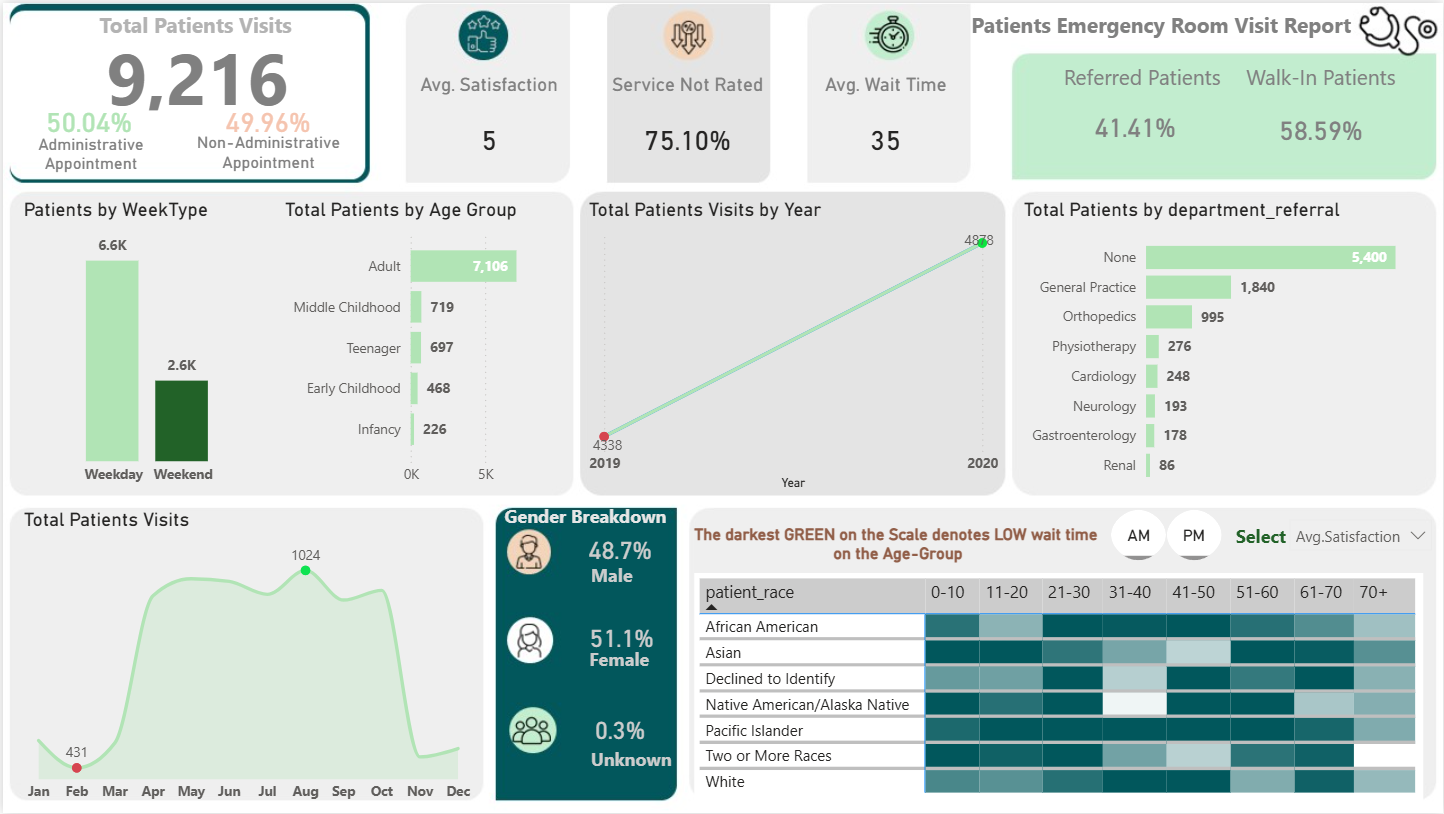

What the dashboard file says about the page in this screenshot:
{"tool":"powerbi","page":{"name":"Page 1","canvas":[1280,720],"ordinal":0},"visuals":[{"type":"card","fields":{"Values":["Calculations.Total Patients"]},"box":[66.7,27.2,212.3,74.1],"z":0},{"type":"card","fields":{"Values":["Calculations.% Administrative Schedule"]},"box":[13.6,74.1,125.9,63],"z":1000},{"type":"card","fields":{"Values":["Calculations.% Non-Administrative Schedule"]},"box":[172.8,74.1,124.7,61.7],"z":2000},{"type":"pivotTable","fields":{"Values":["Calculations.Average Satisfaction Score"],"Rows":["Patients Dataset.patient_race"],"Columns":["Patients Dataset.Age Buckets"]},"box":[614.8,506.2,648.1,213.6],"z":3000},{"type":"slicer","fields":{"Values":["Parameter.Parameter"]},"box":[1133.3,449.4,146.9,48.1],"z":4000},{"type":"clusteredBarChart","fields":{"Category":["Patients Dataset.Age Group"],"Y":["Calculations.Total Patients"]},"box":[245.7,172.8,255.6,264.2],"z":5000},{"type":"areaChart","title":"Total Patients Visits","fields":{"Category":["Date.Month"],"Y":["Calculations.Total Patients","Calculations.Values Max Point (Month)"]},"box":[13.6,449.4,409.9,270.4],"z":6000},{"type":"lineChart","title":"Total Patients Visits by Year","fields":{"Category":["Date.Year"],"Y":["Calculations.Total Patients","Calculations.Values Max Point (Year)"]},"box":[516,172.8,374.1,264.2],"z":7000},{"type":"clusteredBarChart","fields":{"Y":["Calculations.Total Patients"],"Category":["Patients Dataset.department_referral"]},"box":[902.5,172.8,377.8,264.2],"z":8000},{"type":"card","fields":{"Values":["Calculations.% Referred Patients"]},"box":[943.2,77.8,125.9,65.4],"z":9000},{"type":"card","fields":{"Values":["Calculations.% Un Referred Patients"]},"box":[1093.8,75.3,155.6,75.3],"z":10000},{"type":"card","fields":{"Values":["Calculations.HeatMap Caption"]},"box":[588.9,428.4,413.6,106.2],"z":11000},{"type":"textbox","box":[13.6,111.1,129.6,53.1],"z":12000},{"type":"textbox","box":[154.3,109.9,163,53.1],"z":13000},{"type":"card","title":"Avg. Satisfaction","fields":{"Values":["Calculations.Average Satisfaction Score"]},"box":[361.7,61.7,139.5,98.8],"z":14000},{"type":"card","title":"Service Not Rated","fields":{"Values":["Calculations.% No Rating"]},"box":[528.4,61.7,159.3,98.8],"z":15000},{"type":"card","title":"Avg. Wait Time","fields":{"Values":["Calculations.Average Wait Time"]},"box":[714.8,61.7,140.7,98.8],"z":16000},{"type":"advancedSlicerVisual","fields":{"Values":["Patients Dataset.Moment"]},"box":[980.2,445.7,109.9,55.6],"z":17000},{"type":"textbox","box":[930.9,48.1,163,53.1],"z":18000},{"type":"textbox","box":[1090.1,48.1,163,46.9],"z":19000},{"type":"clusteredColumnChart","title":"Patients by WeekType","fields":{"Y":["Calculations.Total Patients"],"Category":["Date.WeekType"]},"box":[13.6,172.8,232.1,264.2],"z":20000},{"type":"card","fields":{"Values":["Calculations.% Female Visit"]},"box":[501.2,458,95.1,56.8],"z":21000},{"type":"card","fields":{"Values":["Calculations.% Male Visit"]},"box":[502.5,537,95.1,56.8],"z":22000},{"type":"card","fields":{"Values":["Calculations.% Unkown"]},"box":[501.2,617.3,95.1,56.8],"z":23000},{"type":"textbox","box":[76.5,2.5,188.9,53.1],"z":24000},{"type":"textbox","box":[423.5,439.5,188.9,53.1],"z":25000},{"type":"textbox","box":[485.2,492.6,111.1,53.1],"z":26000},{"type":"textbox","box":[486.4,566.7,122.2,53.1],"z":27000},{"type":"textbox","box":[502.5,655.6,112.3,53.1],"z":28000},{"type":"textbox","box":[1053.1,458,129.6,53.1],"z":29000},{"type":"textbox","box":[855.6,2.5,348.1,53.1],"z":30000}]}

Visuals, with their boxes in screenshot pixels (x1, y1, x2, y2), scaled from the page's 1280x720 canvas onto the 1444x814 screenshot:
card - Calculations.Total Patients: x1=75 y1=31 x2=315 y2=115
card - Calculations.% Administrative Schedule: x1=15 y1=84 x2=157 y2=155
card - Calculations.% Non-Administrative Schedule: x1=195 y1=84 x2=336 y2=154
pivotTable - Calculations.Average Satisfaction Score x Patients Dataset.patient_race: x1=694 y1=572 x2=1425 y2=813
slicer - Parameter.Parameter: x1=1279 y1=508 x2=1443 y2=562
clusteredBarChart - Patients Dataset.Age Group x Calculations.Total Patients: x1=277 y1=195 x2=566 y2=494
"Total Patients Visits" areaChart: x1=15 y1=508 x2=478 y2=813
"Total Patients Visits by Year" lineChart: x1=582 y1=195 x2=1004 y2=494
clusteredBarChart - Calculations.Total Patients x Patients Dataset.department_referral: x1=1018 y1=195 x2=1443 y2=494
card - Calculations.% Referred Patients: x1=1064 y1=88 x2=1206 y2=162
card - Calculations.% Un Referred Patients: x1=1234 y1=85 x2=1409 y2=170
card - Calculations.HeatMap Caption: x1=664 y1=484 x2=1131 y2=604
textbox: x1=15 y1=126 x2=162 y2=186
textbox: x1=174 y1=124 x2=358 y2=184
"Avg. Satisfaction" card: x1=408 y1=70 x2=565 y2=181
"Service Not Rated" card: x1=596 y1=70 x2=776 y2=181
"Avg. Wait Time" card: x1=806 y1=70 x2=965 y2=181
advancedSlicerVisual - Patients Dataset.Moment: x1=1106 y1=504 x2=1230 y2=567
textbox: x1=1050 y1=54 x2=1234 y2=114
textbox: x1=1230 y1=54 x2=1414 y2=107
"Patients by WeekType" clusteredColumnChart: x1=15 y1=195 x2=277 y2=494
card - Calculations.% Female Visit: x1=565 y1=518 x2=673 y2=582
card - Calculations.% Male Visit: x1=567 y1=607 x2=674 y2=671
card - Calculations.% Unkown: x1=565 y1=698 x2=673 y2=762
textbox: x1=86 y1=3 x2=299 y2=63
textbox: x1=478 y1=497 x2=691 y2=557
textbox: x1=547 y1=557 x2=673 y2=617
textbox: x1=549 y1=641 x2=687 y2=701
textbox: x1=567 y1=741 x2=694 y2=801
textbox: x1=1188 y1=518 x2=1334 y2=578
textbox: x1=965 y1=3 x2=1358 y2=63
